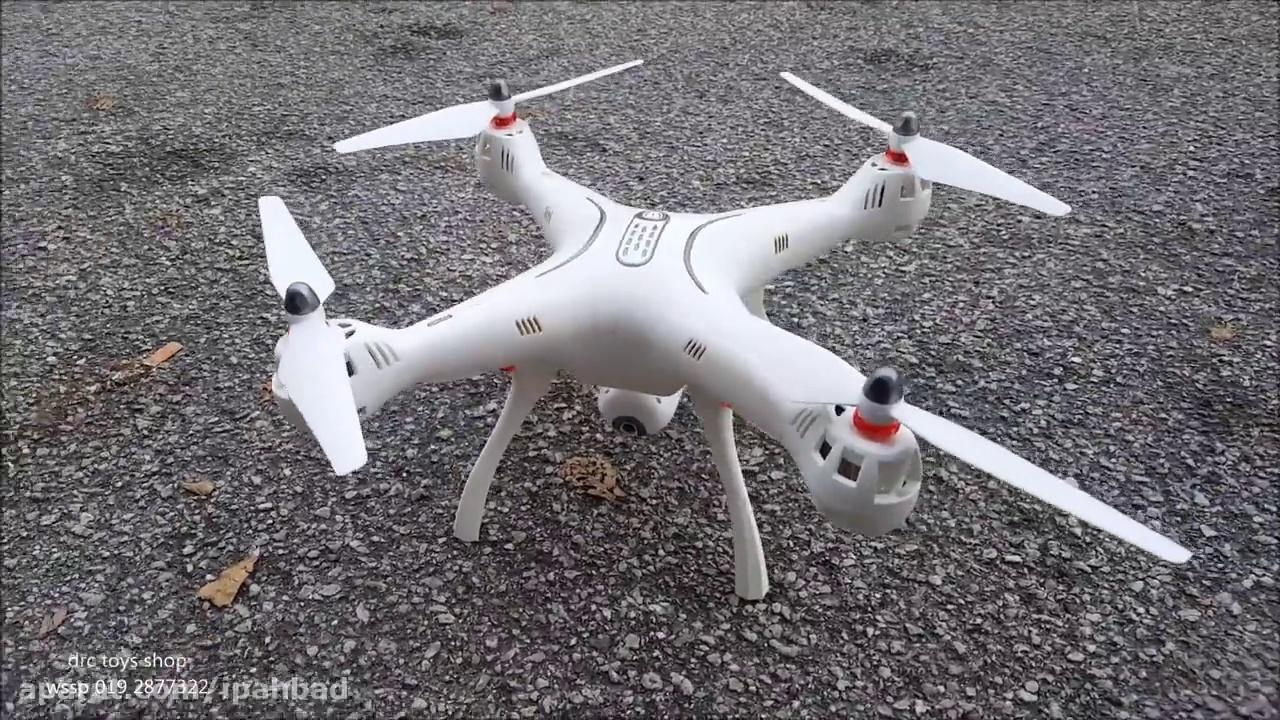drone: (250, 53, 1200, 603)
